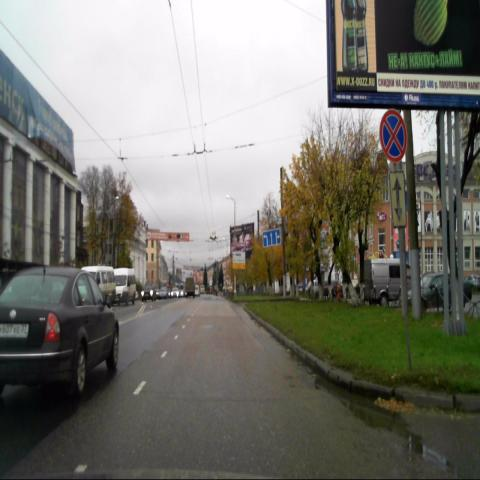3_27: (380, 109, 408, 163)
5_15_1: (262, 229, 281, 247)
